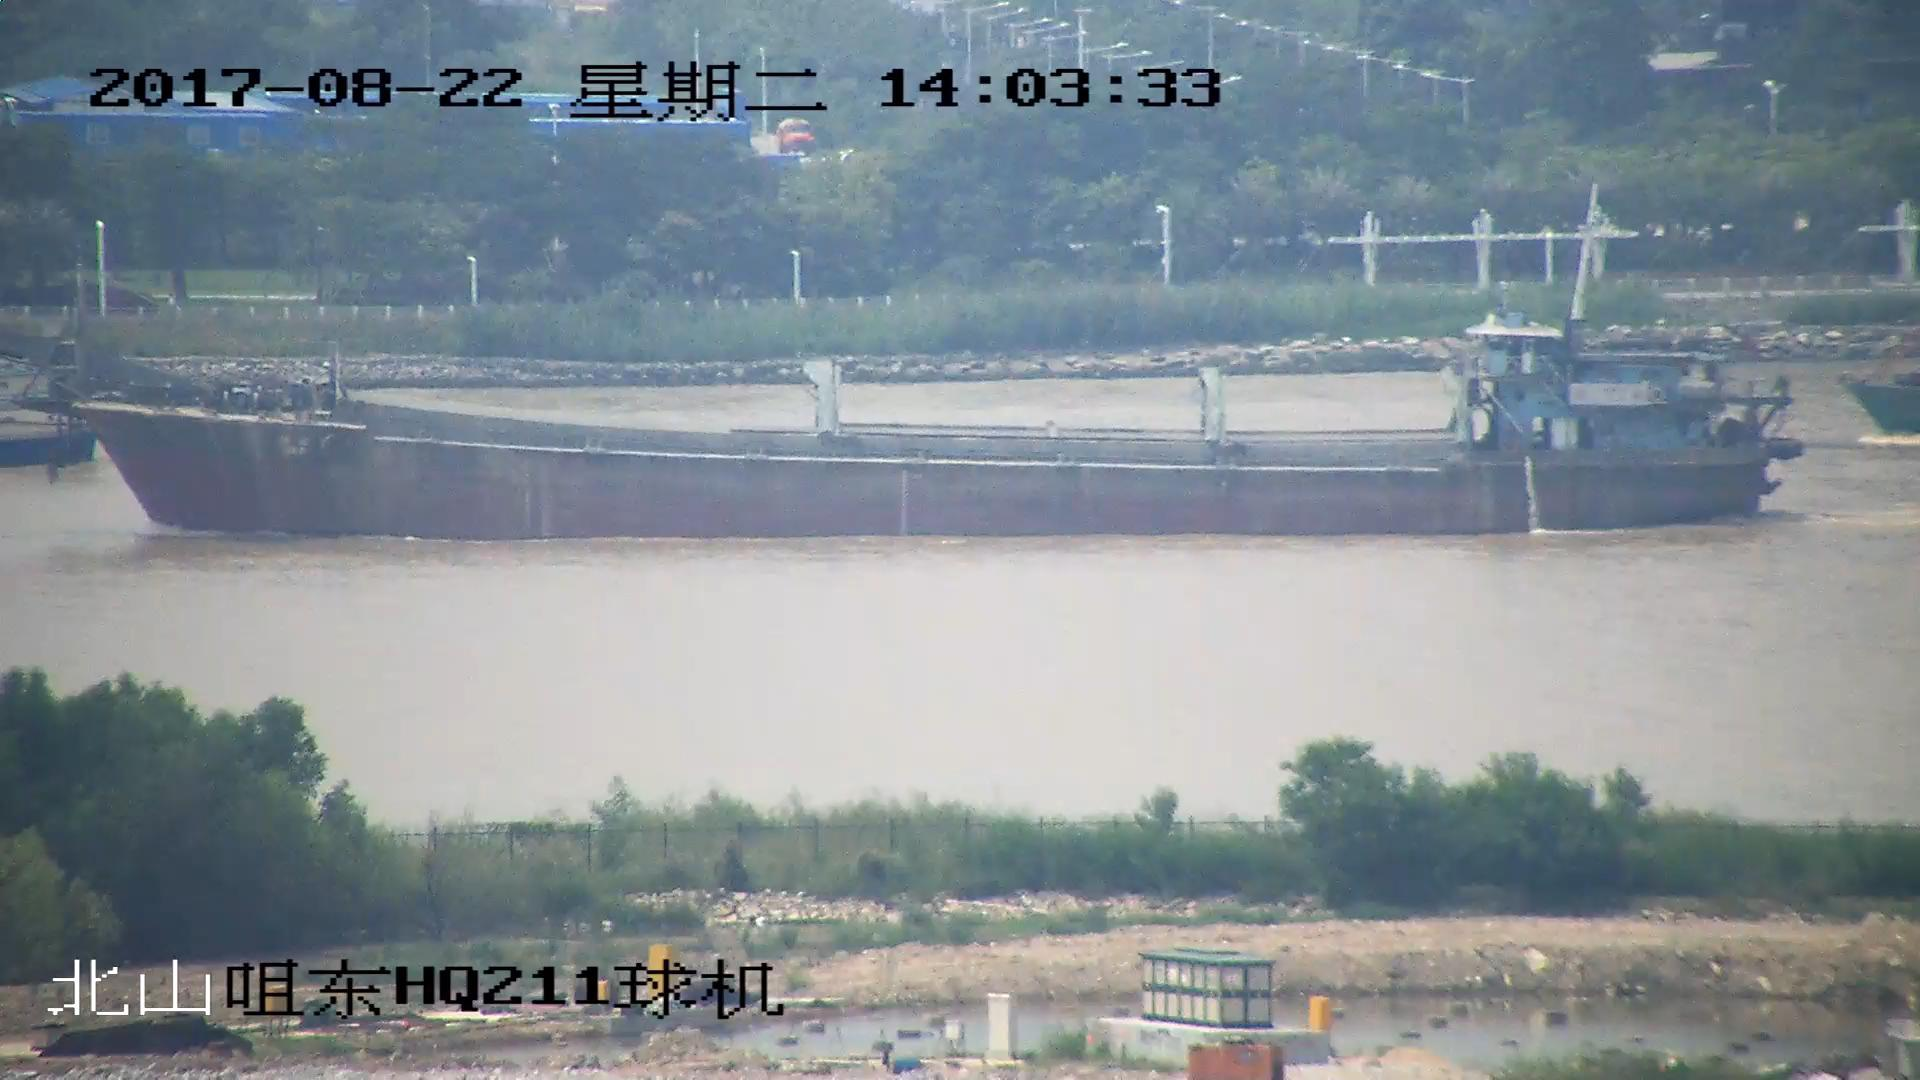Ship: (3, 280, 1793, 538), (3, 384, 109, 469)
